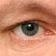eye: (22, 23, 37, 36)
